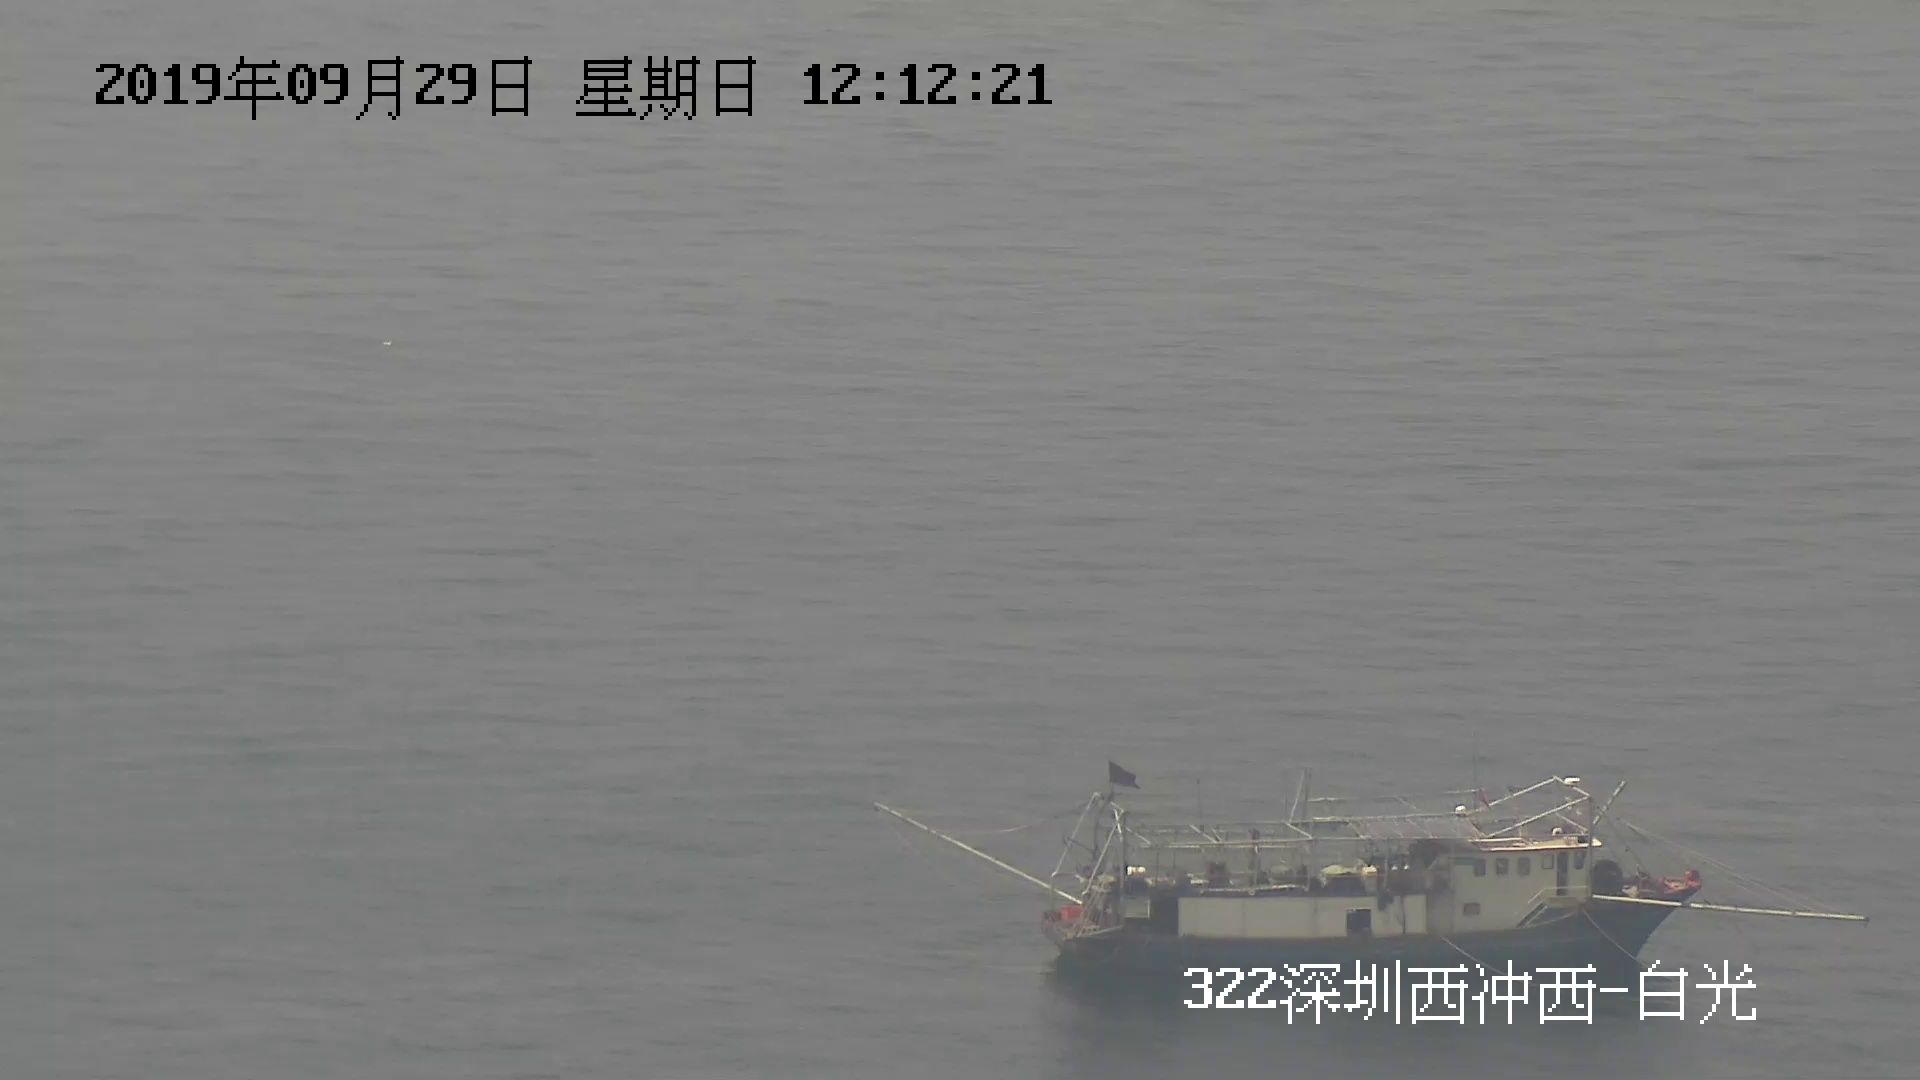ship: (860, 760, 1884, 996)
